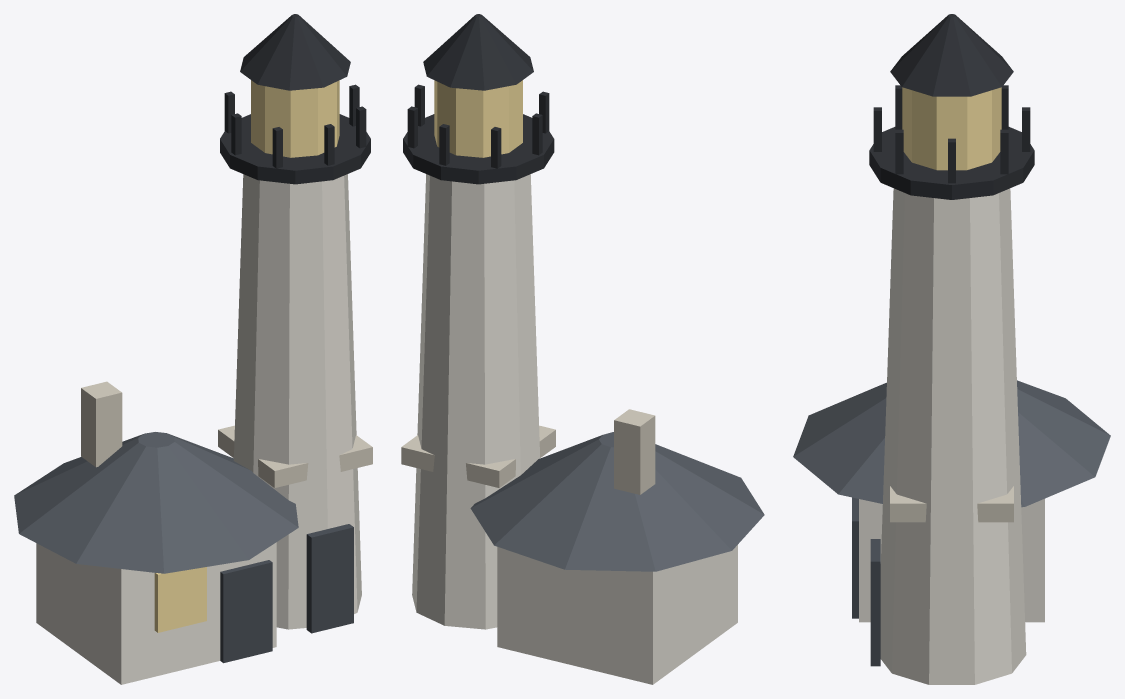
Rendered from loc_cc_highland.glb.
3 renders of one model, left to right at view 1: azimuth 30°, elevation 25°; view 2: azimuth 150°, elevation 25°; view 3: azimuth 270°, elevation 25°, orthographic. The views are drawn at different scales.
Visible parts, largest first — view 1: Cone, Cone.004, house, Cone.002, Cone.003, house_door, tower_door, Cone.001, chimney, house_window, tower_band; view 2: Cone, Cone.004, house, Cone.002, Cone.003, Cone.001, chimney, tower_band; view 3: Cone, Cone.004, Cone.002, Cone.003, Cone.001, house, tower_band, tower_door, house_door.
Boxes of the visible parts, <box> form: Cone: <box>233,174,361,629</box>; Cone.004: <box>14,432,298,573</box>; house: <box>36,542,276,684</box>; Cone.002: <box>251,80,339,157</box>; Cone.003: <box>240,14,350,90</box>; house_door: <box>220,560,272,663</box>; tower_door: <box>306,524,353,633</box>; Cone.001: <box>220,114,370,184</box>; chimney: <box>81,381,122,467</box>; house_window: <box>154,567,206,632</box>; tower_band: <box>218,425,372,487</box>; Cone: <box>412,174,540,629</box>; Cone.004: <box>470,432,764,571</box>; house: <box>497,545,737,684</box>; Cone.002: <box>434,80,522,157</box>; Cone.003: <box>423,14,533,90</box>; Cone.001: <box>403,114,554,184</box>; chimney: <box>614,409,655,494</box>; tower_band: <box>401,425,555,487</box>; Cone: <box>880,188,1026,684</box>; Cone.004: <box>793,380,1110,507</box>; Cone.002: <box>902,87,1001,170</box>; Cone.003: <box>890,14,1013,96</box>; Cone.001: <box>869,127,1034,199</box>; house: <box>859,498,1044,622</box>; tower_band: <box>890,486,1013,522</box>; tower_door: <box>870,539,880,666</box>; house_door: <box>852,497,858,618</box>.
Size of the model in its own units: 2.02 by 3.42 by 1.54.
